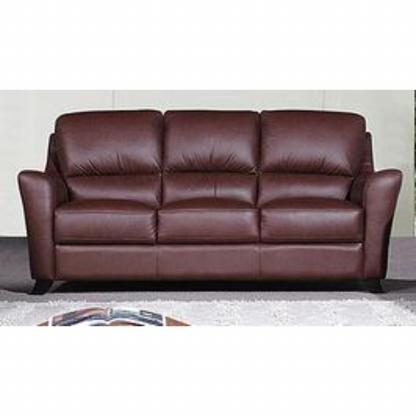Sofa: (17, 109, 402, 293)
